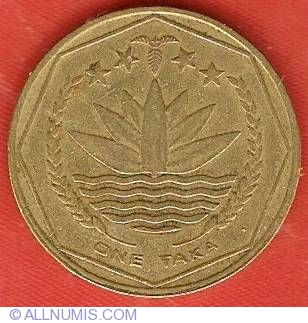2 taka coin: (10, 7, 301, 297)
